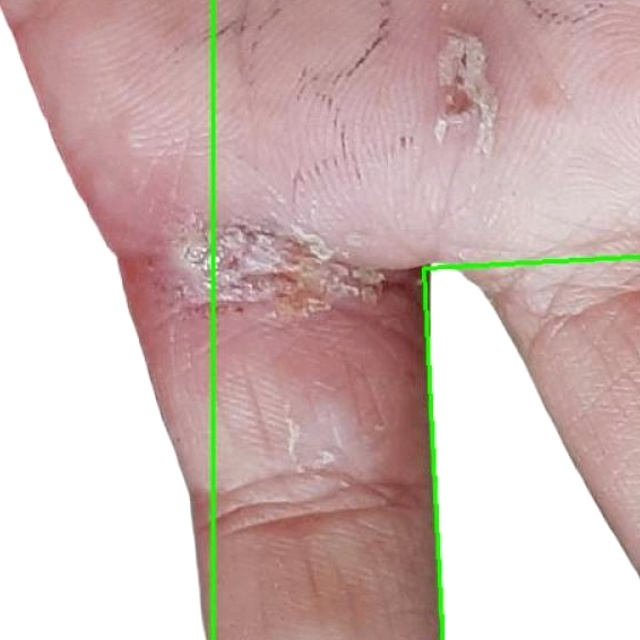Scabies: (0, 0, 639, 639), (0, 0, 213, 639), (422, 256, 639, 639)
